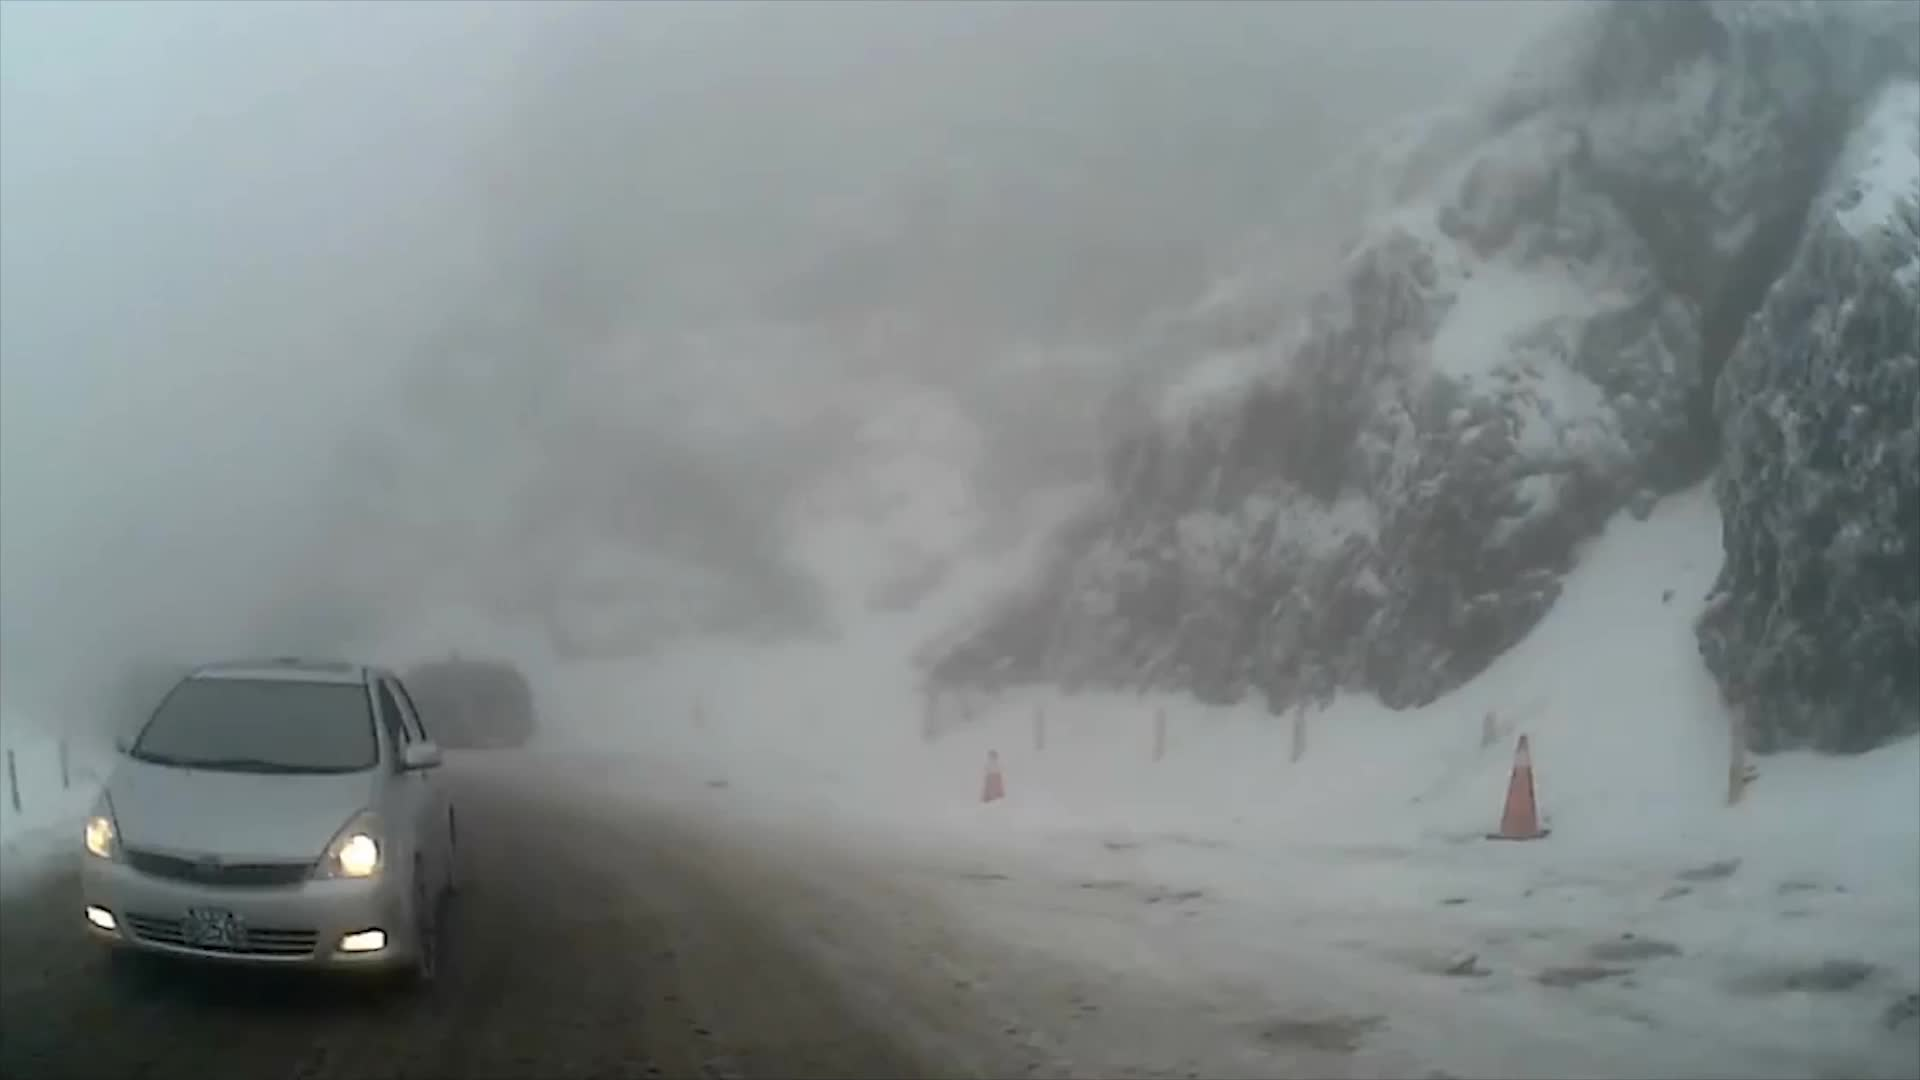vehicle: (80, 657, 471, 1000)
